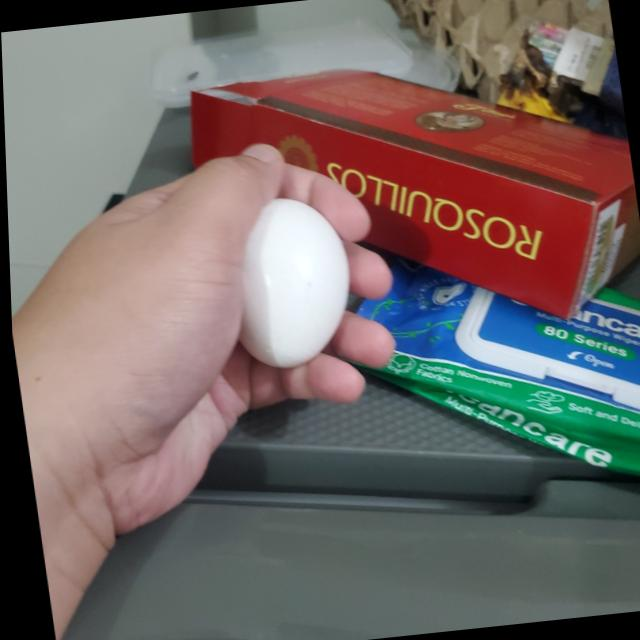egg: (214, 194, 353, 373)
